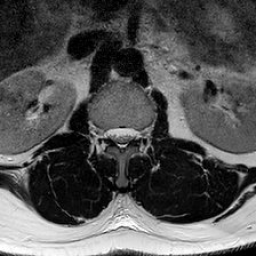CCS_normal: (116, 118, 125, 158)
LFS_normal: (136, 117, 146, 148)
LLS_normal: (125, 117, 136, 150)
RFS_normal: (97, 116, 106, 145)
RLS_normal: (106, 117, 116, 148)
